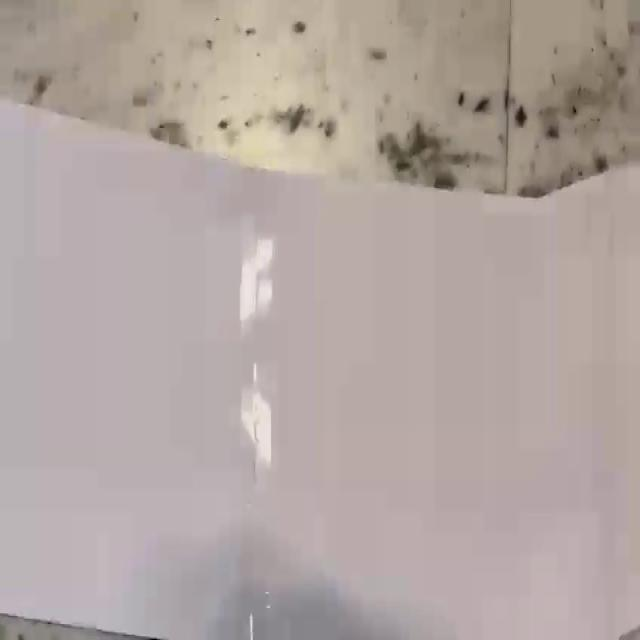road: (0, 101, 640, 640)
